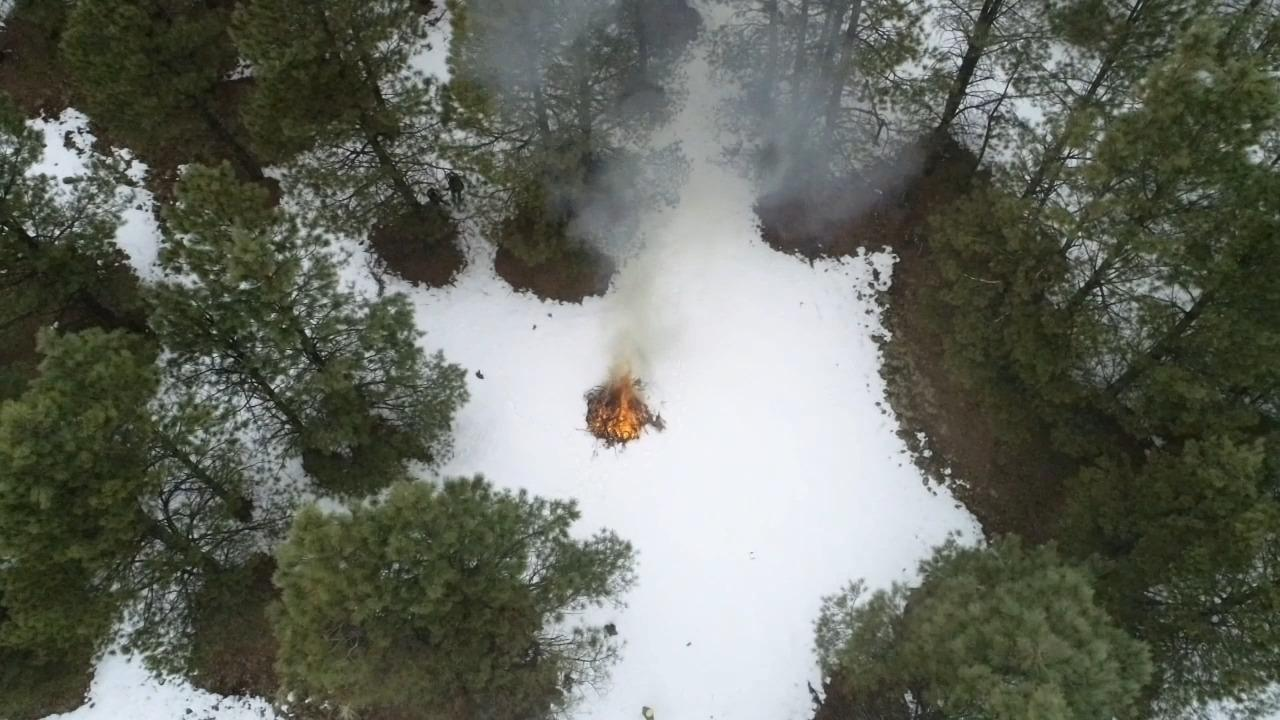fire: (584, 356, 662, 450)
smoke: (752, 68, 929, 234), (462, 0, 634, 109)
